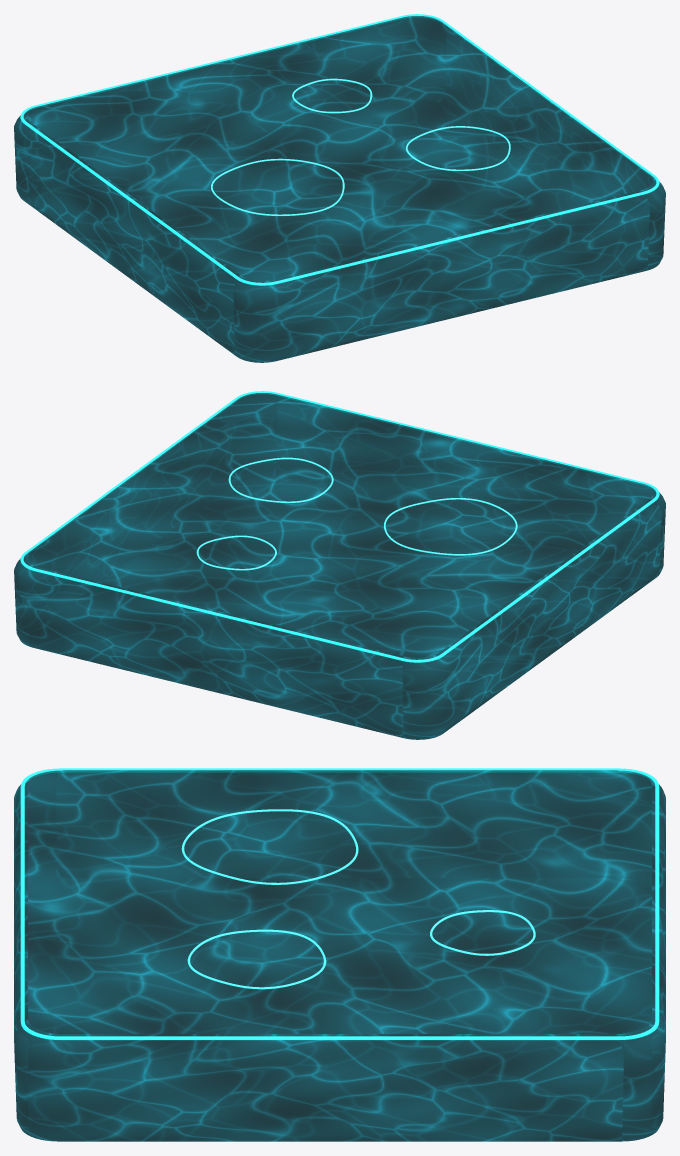
File: luminous-stepping-block.glb
3 views of the same model, one above another, from view 1: azimuth 30°, elevation 25°; view 2: azimuth 150°, elevation 25°; view 3: azimuth 270°, elevation 25° (orthographic). The views are drawn at different scales.
Visible parts, largest first — view 1: Mineral glass slab, Cyan perimeter, Circular inlays; view 2: Mineral glass slab, Cyan perimeter, Circular inlays; view 3: Mineral glass slab, Cyan perimeter, Circular inlays.
Boxes of the visible parts, x1=… form: Mineral glass slab: x1=14, y1=16, x2=665, y2=362; Cyan perimeter: x1=20, y1=14, x2=659, y2=285; Circular inlays: x1=211, y1=78, x2=510, y2=215; Mineral glass slab: x1=14, y1=393, x2=665, y2=739; Cyan perimeter: x1=20, y1=391, x2=659, y2=662; Circular inlays: x1=196, y1=457, x2=517, y2=570; Mineral glass slab: x1=14, y1=770, x2=665, y2=1141; Cyan perimeter: x1=20, y1=768, x2=659, y2=1040; Circular inlays: x1=181, y1=809, x2=535, y2=989.
Bounding box in the file's own units: 2.4 × 0.4425 × 2.4.
Materials: 3 (1 with a texture image).
